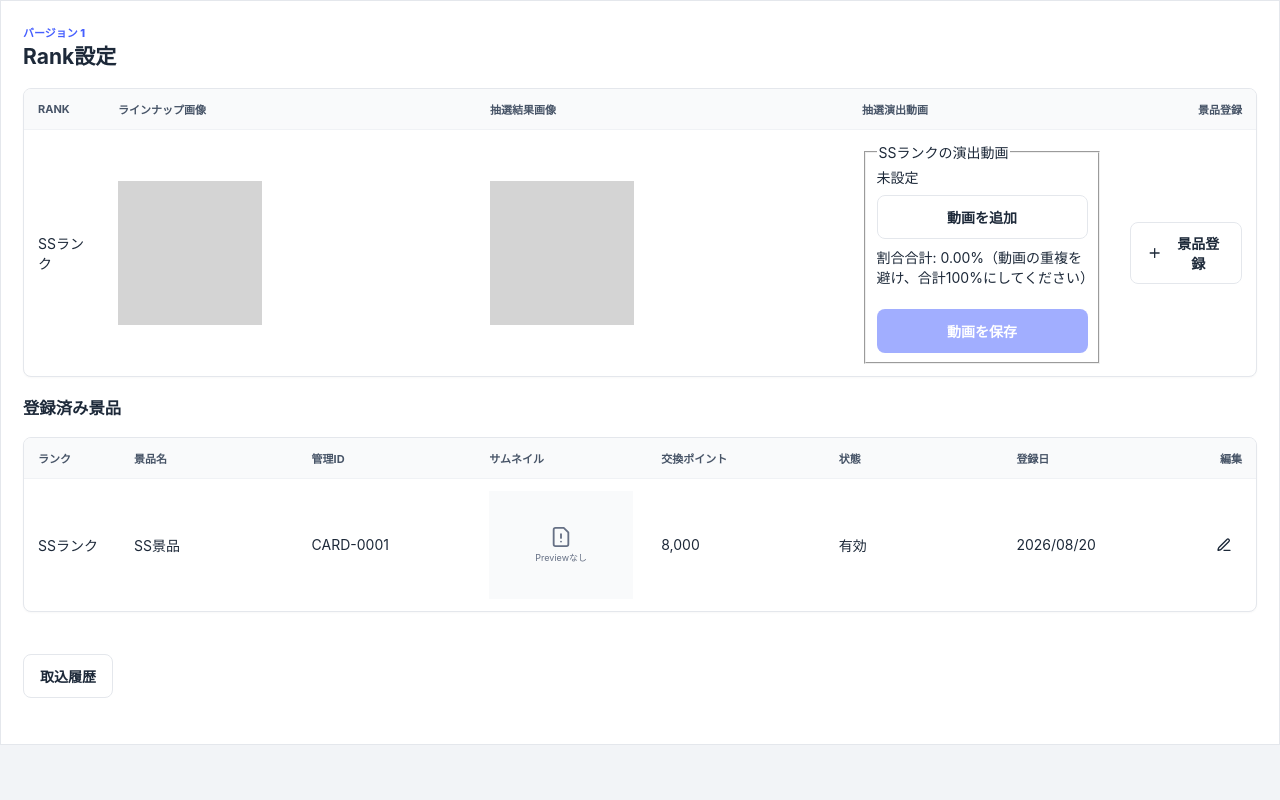
Test case: Canonical Gacha Rank and Prize manager › displays an existing Prize external ID in its list and form
The width and height of the screenshot is (1280, 800).
Expected: the text "CARD-0001" is shown, [298,478,475,611]
Step 1. Click the button named "SS景品を編集" → click(1224, 545), box [1206,527,1242,563]
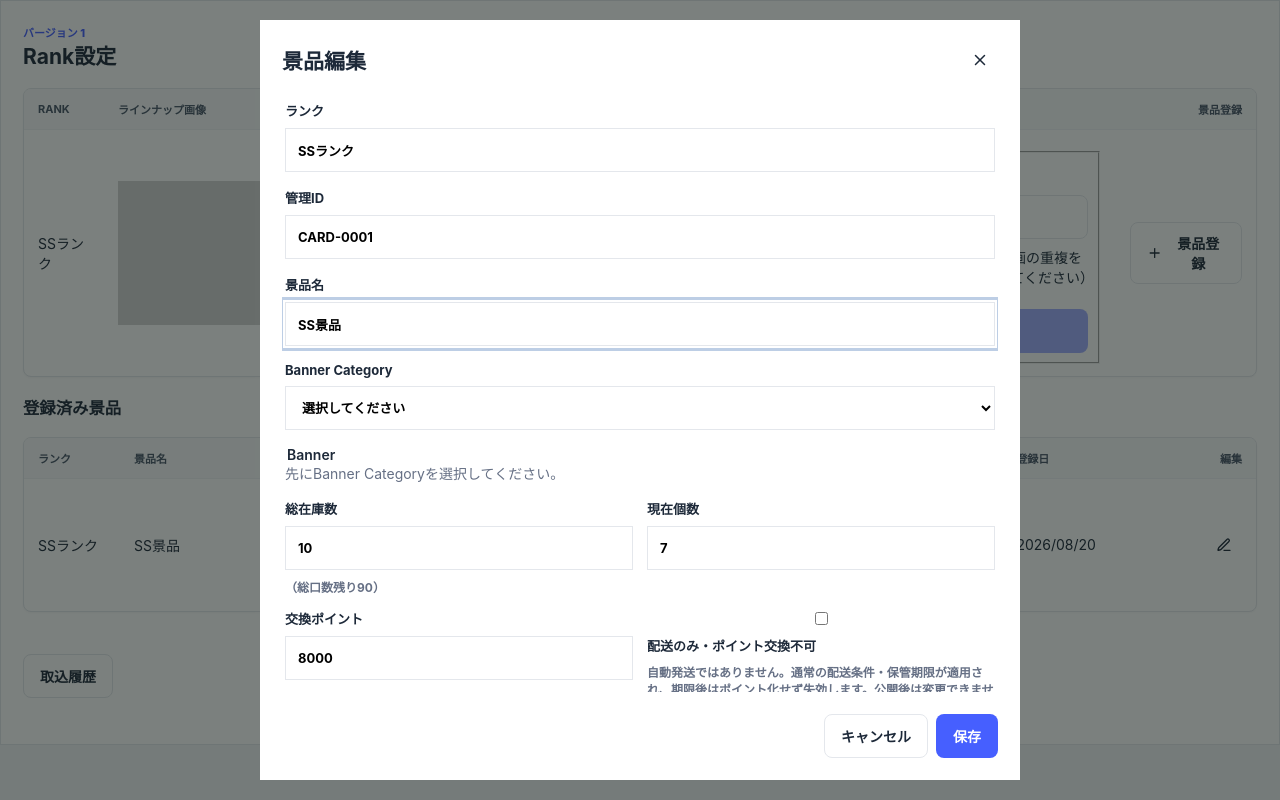
Expected: the field labelled "管理ID" holds "CARD-0001", [285,215,995,259]
